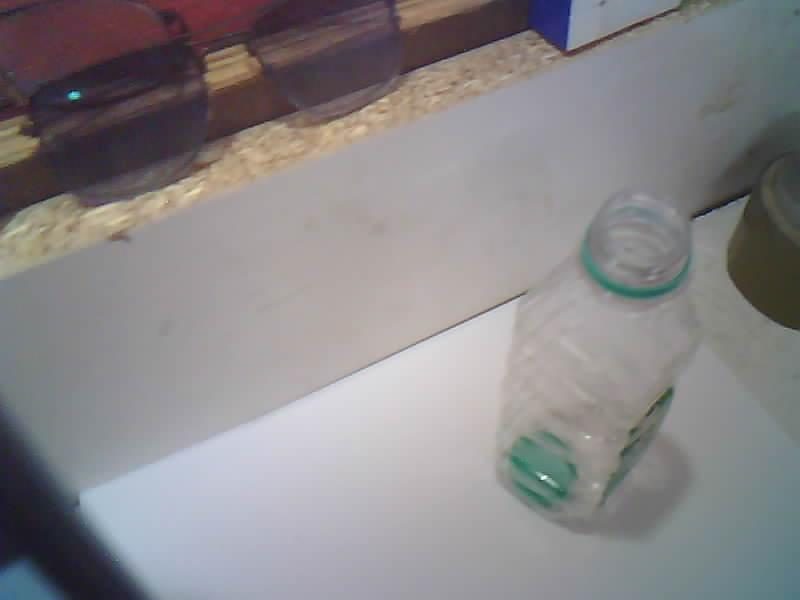non-biodegradable: (494, 192, 700, 529)
